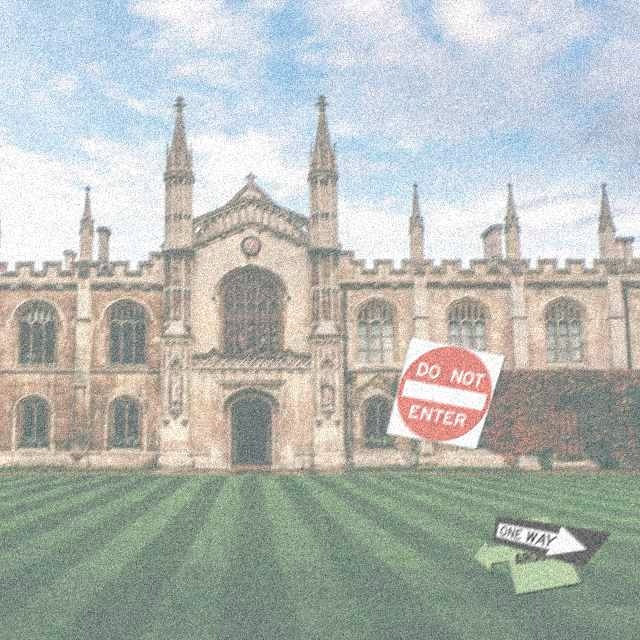DO_NOT_ENTER: (386, 336, 507, 450)
GO_AROUND: (473, 515, 594, 596)
ONE_WAY_ right: (492, 515, 613, 567)
